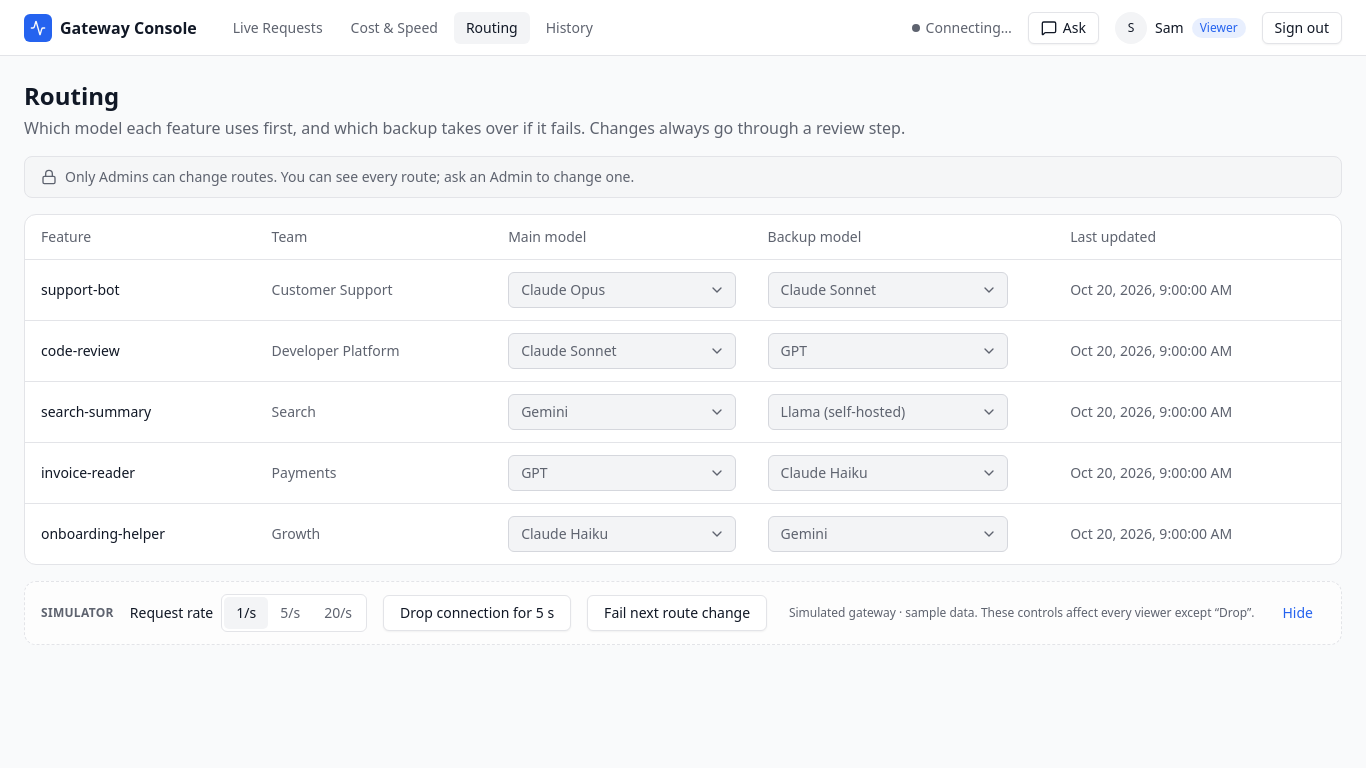
Scenario: Chat panel (S7, FR-24..FR-28) › applies a filter to Live Requests and shows what it understood (FR-25, FR-28, Flow E)
The image size is (1366, 768).
Click the button "Ask": x=1063, y=28 [1028, 12, 1099, 44]
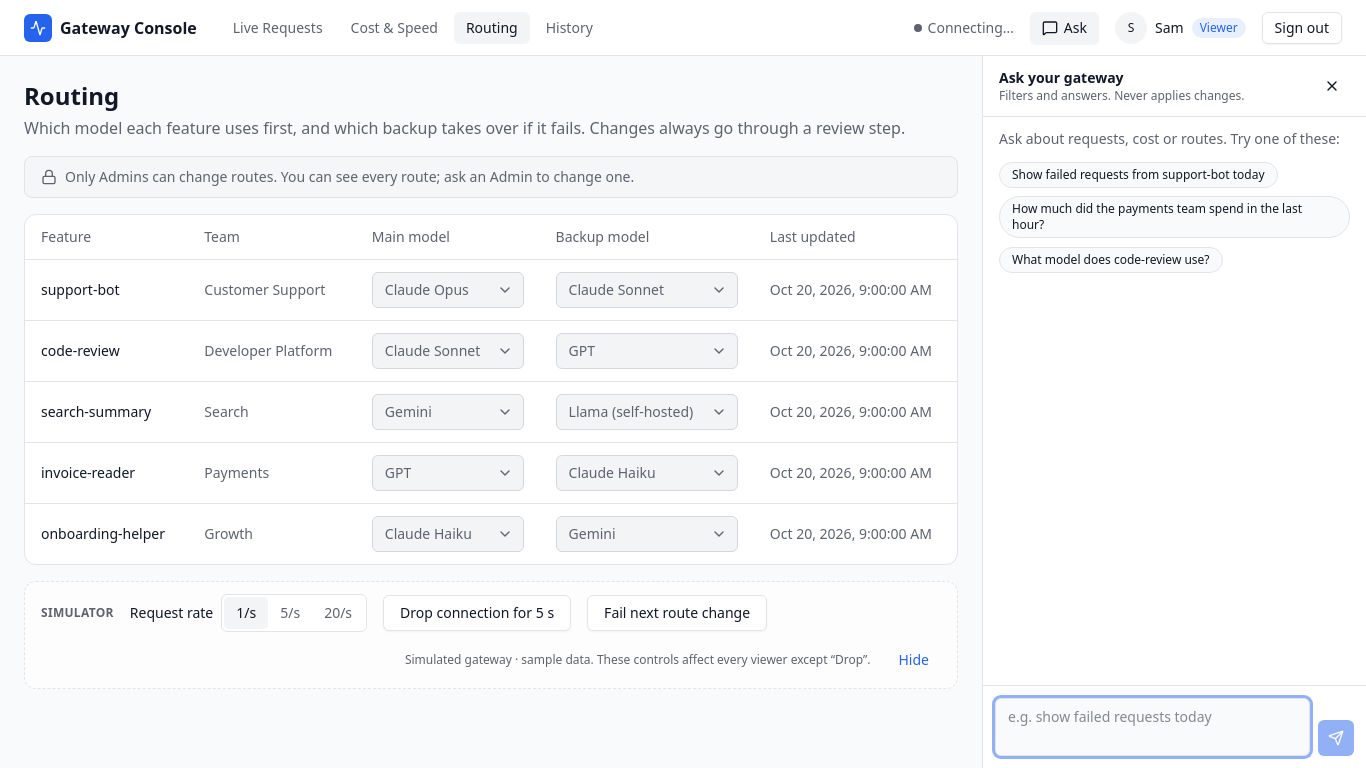
In the text box named "Message": x=1152, y=727 [995, 698, 1310, 756], type "show failed requests from support-bot today"
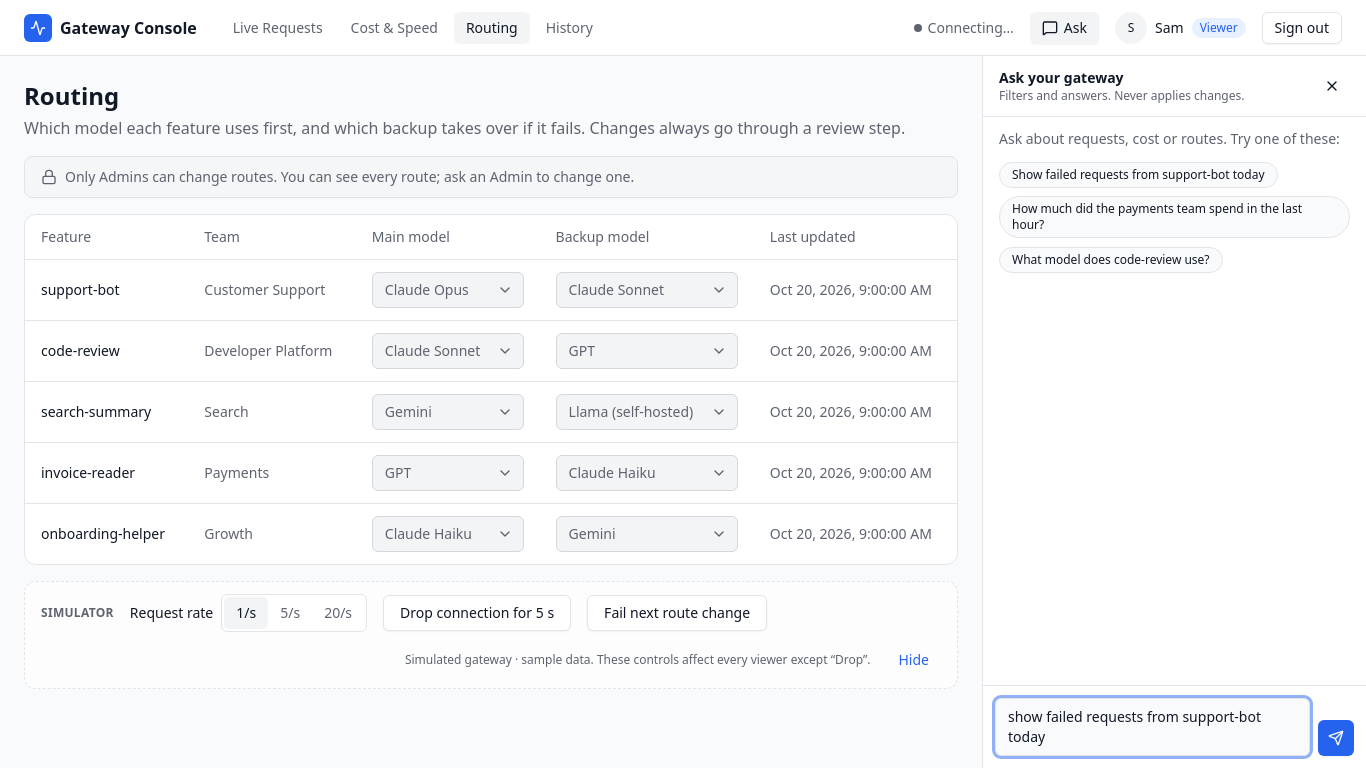
Click the button named "Send": x=1336, y=738 [1318, 720, 1354, 756]
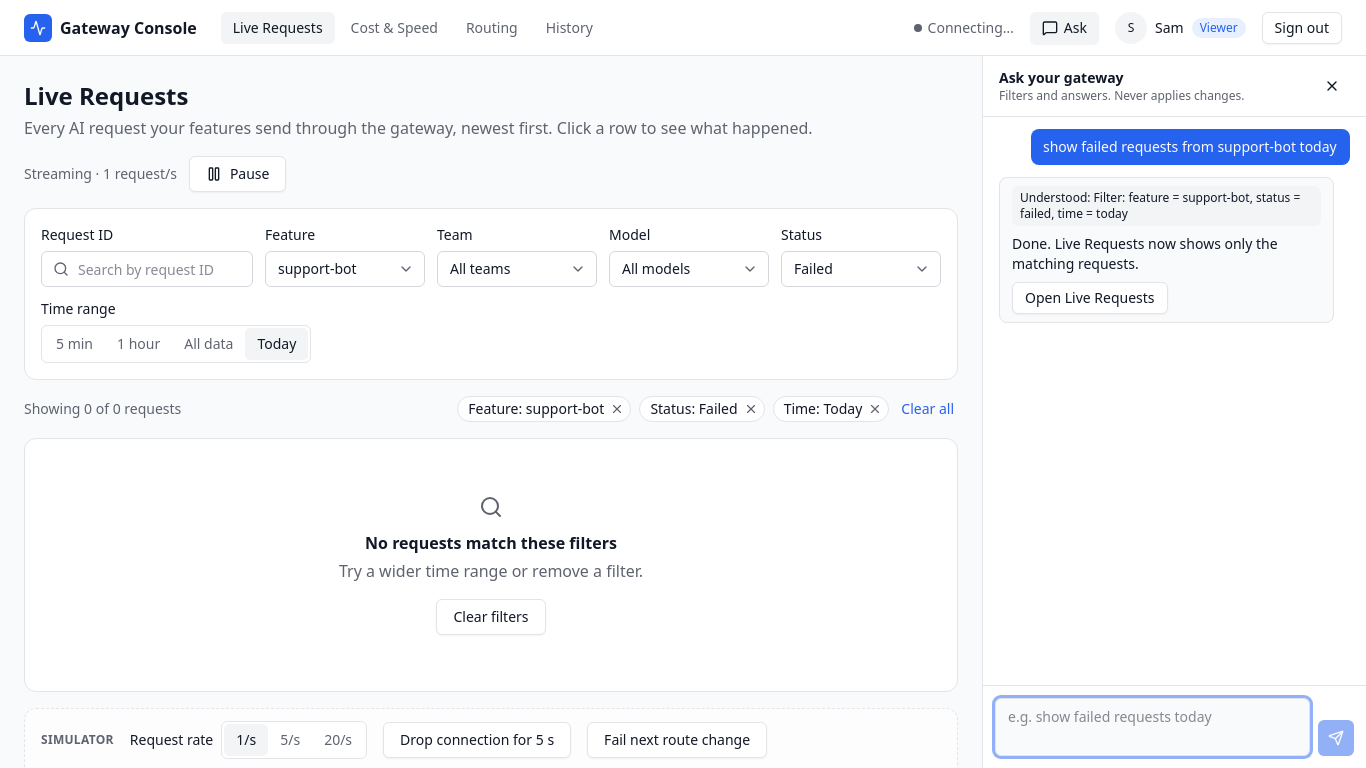
expect the text with test id "understood" reads "Filter: feature = support-bot, status = failed, time = today": met, box [1020, 189, 1300, 222]
expect the heading "Live Requests" is shown: met, box [24, 79, 188, 112]
